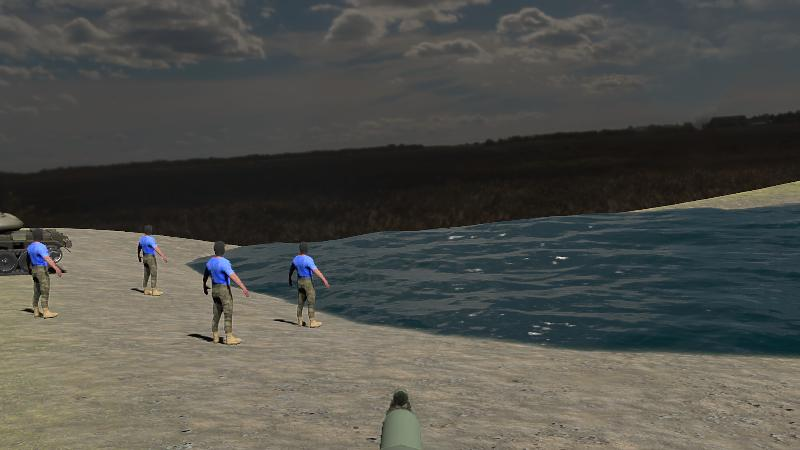Human: (202, 241, 249, 346), (288, 241, 329, 329), (27, 228, 63, 319), (138, 224, 167, 296)
Tank: (0, 210, 70, 277)
